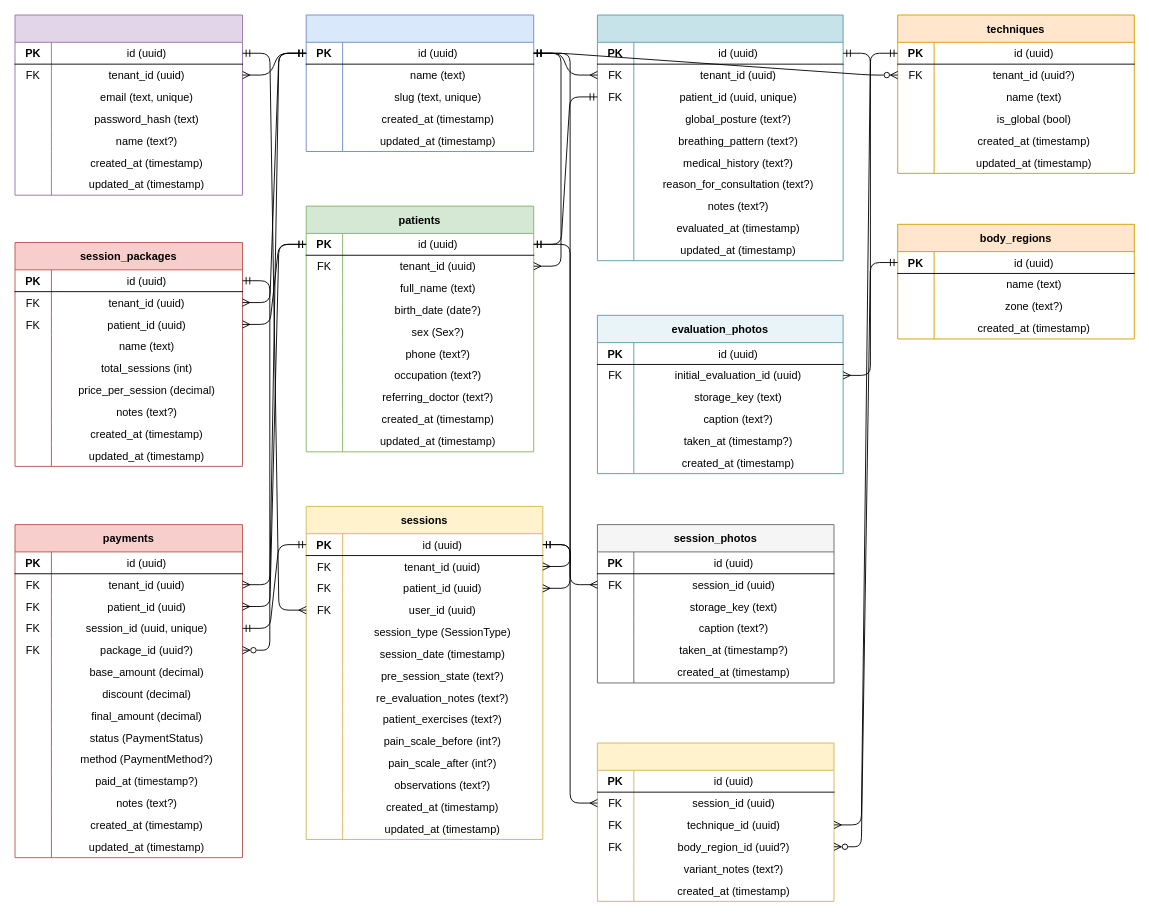
The diagram is 1149 pixels wide and 916 high, and some of its shapes have lost their labels. Each missing label, with the box of its shape:
initial_evaluations: (597, 14, 843, 261)
session_techniques: (597, 742, 834, 901)
tenants: (305, 14, 534, 152)
users: (14, 14, 243, 195)
